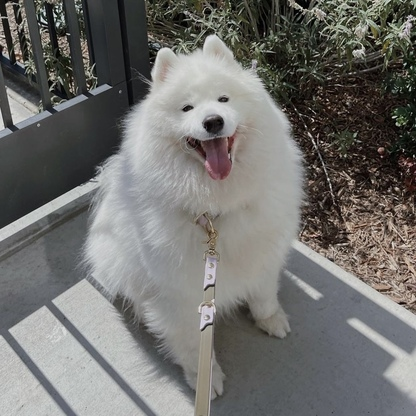samoyed: (78, 27, 312, 408)
